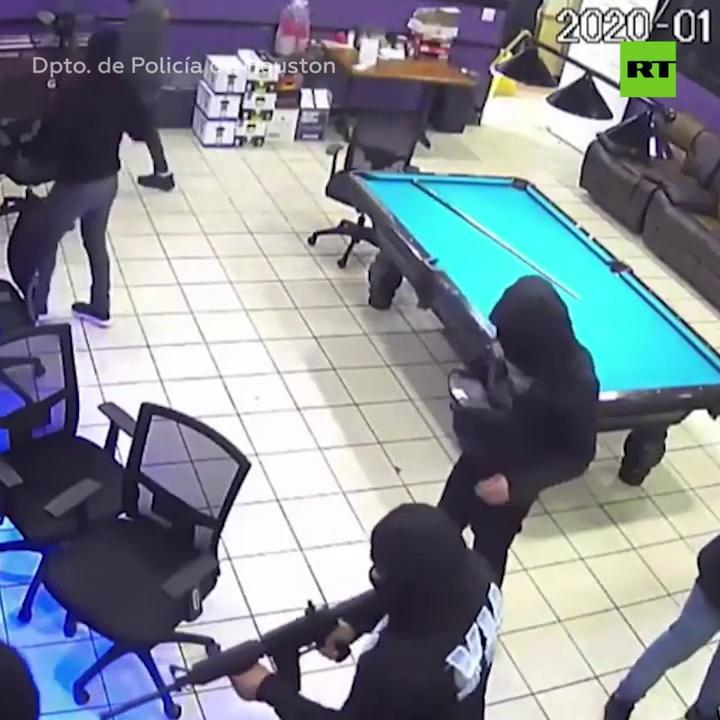Long guns: (87, 586, 369, 720)
